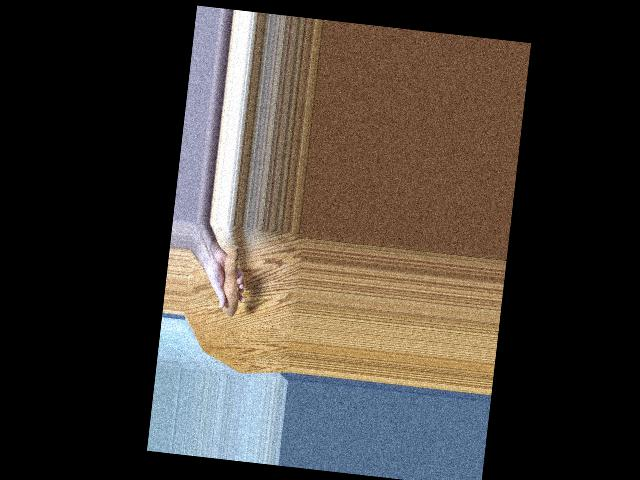sweet_potato: (210, 240, 246, 323)
